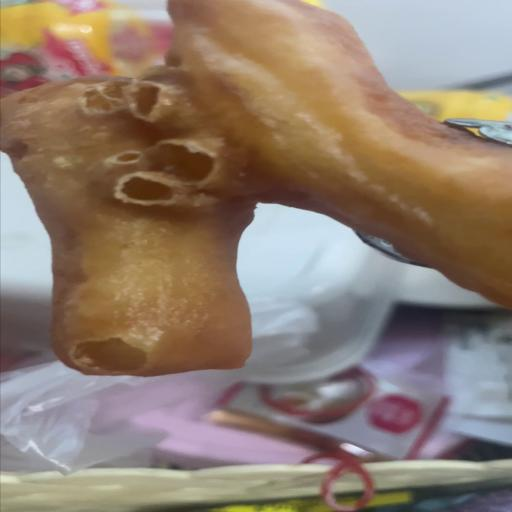street_burnt_defect: (0, 0, 510, 381)
